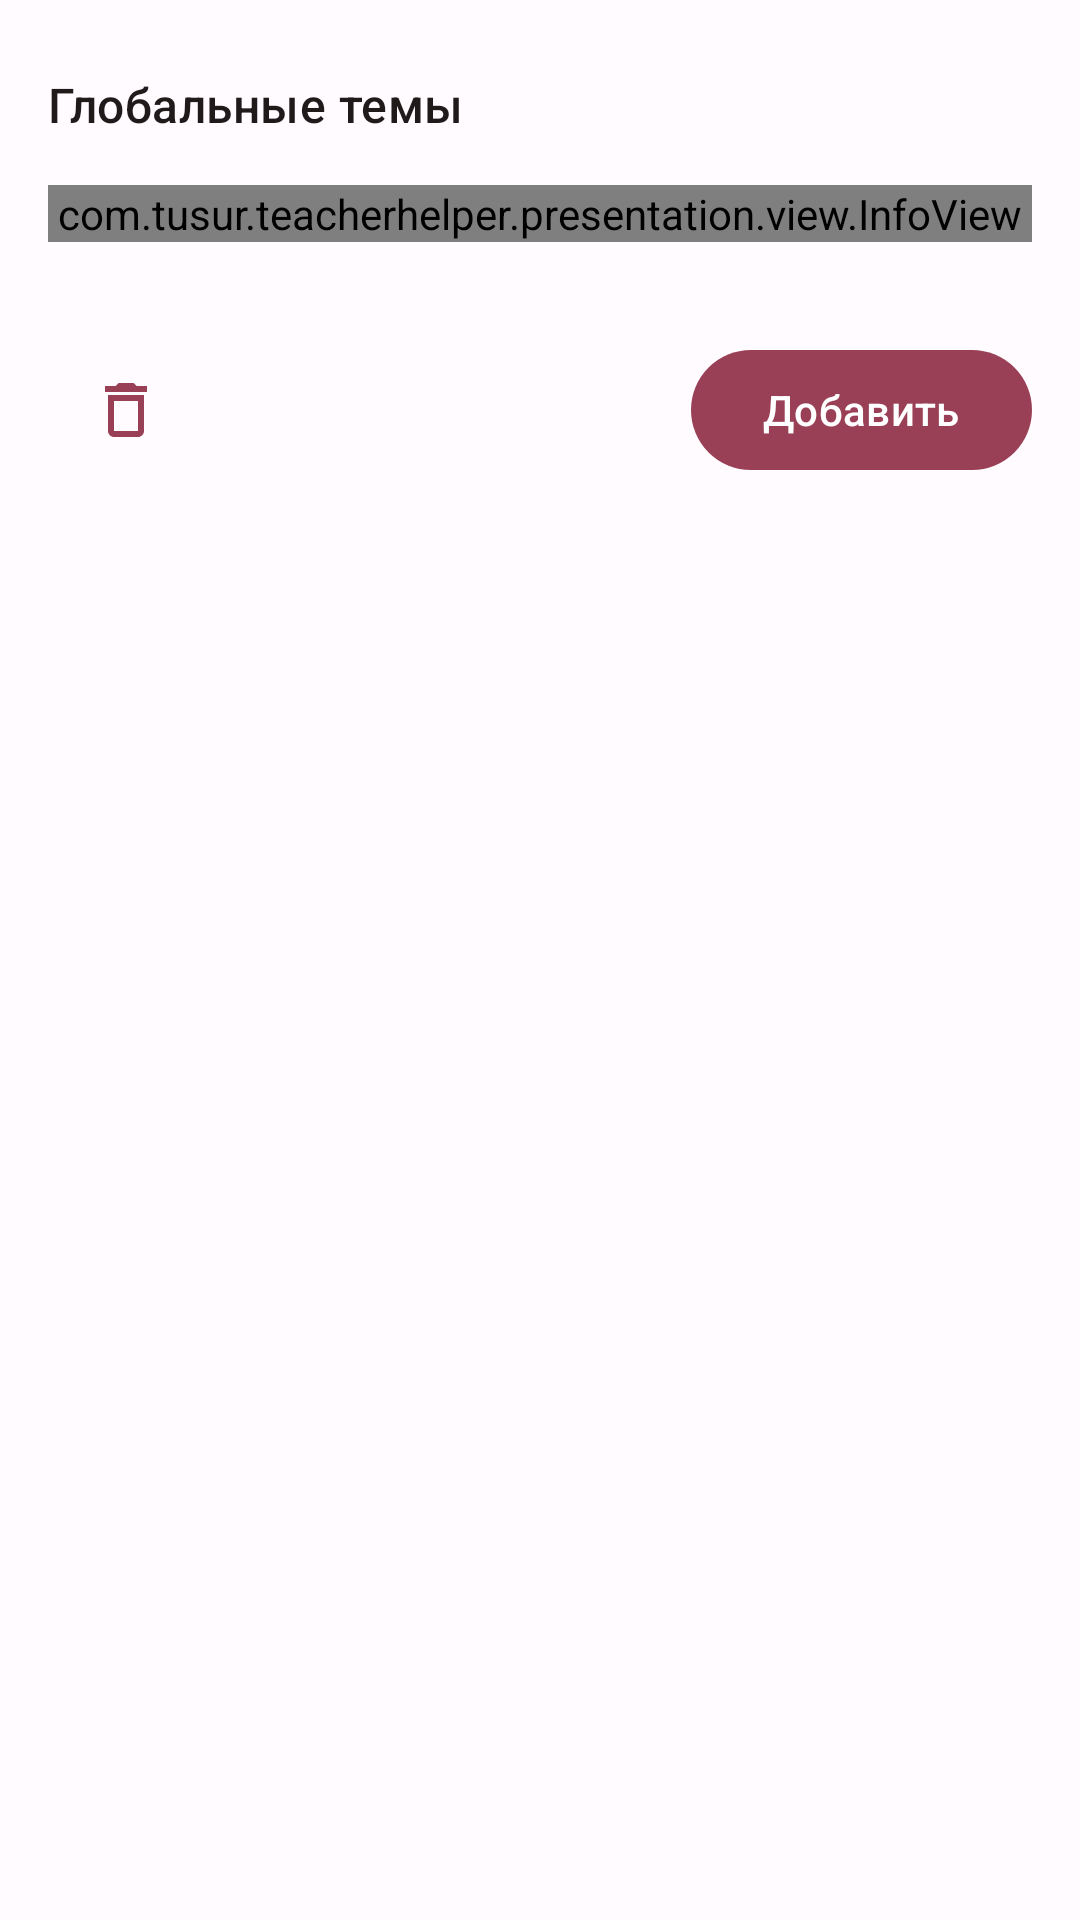

Screen size 1080w x 1920h. Icon name, then its center in pixels as (x=x, y=y):
delete: (x=126, y=410)
